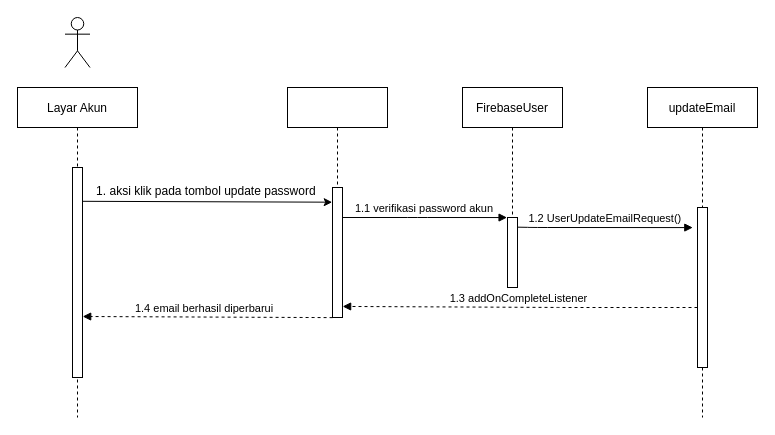
Image size: 775x435. Some labels were removed from this diagram. The centre of each missing label's shape, as x and y in pixels:
":User" goes at (x=77, y=42).
"Autentikasi" goes at (x=337, y=202).
